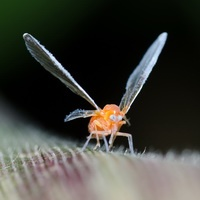insect: (23, 32, 166, 152)
